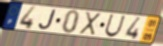0: (60, 9, 81, 35)
4: (18, 6, 39, 30), (123, 16, 141, 41)
J: (37, 9, 58, 31)
U: (104, 14, 127, 38)
X: (78, 12, 103, 37)
